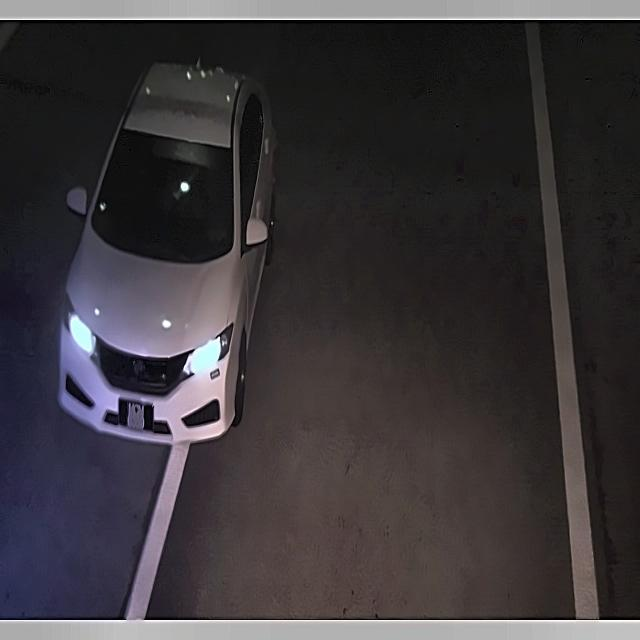car: (115, 395, 154, 440)
